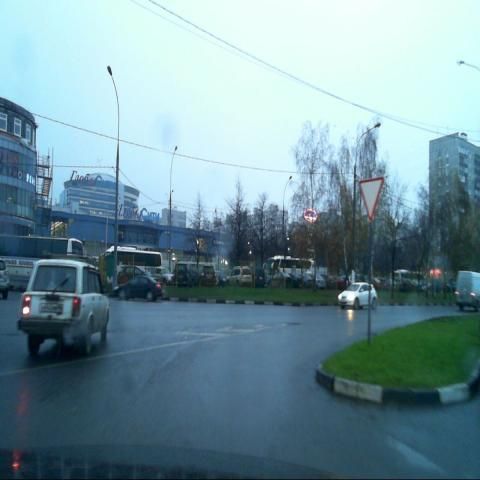2_4: (359, 176, 383, 223)
